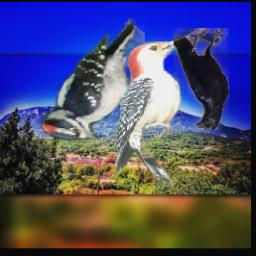Crow: (174, 28, 229, 130)
Woodpecker: (40, 18, 145, 143), (115, 36, 194, 189)
